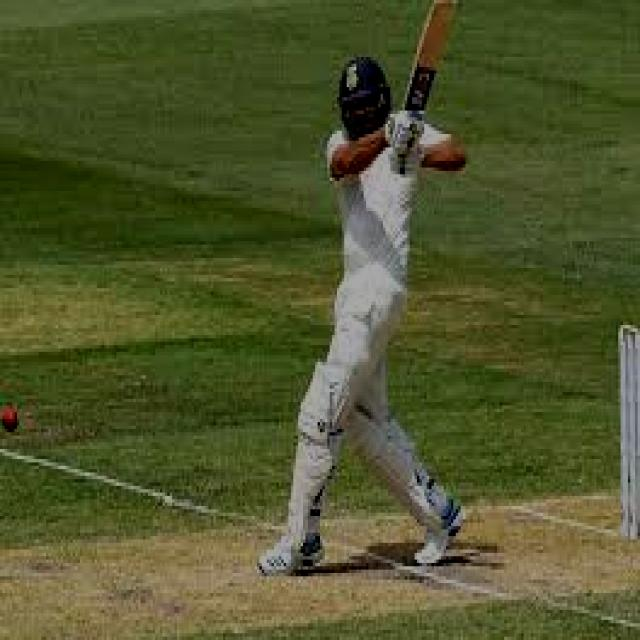toe: (426, 0, 456, 40)
